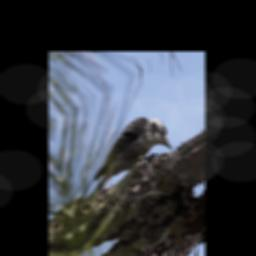Woodpecker: (81, 96, 178, 204)
